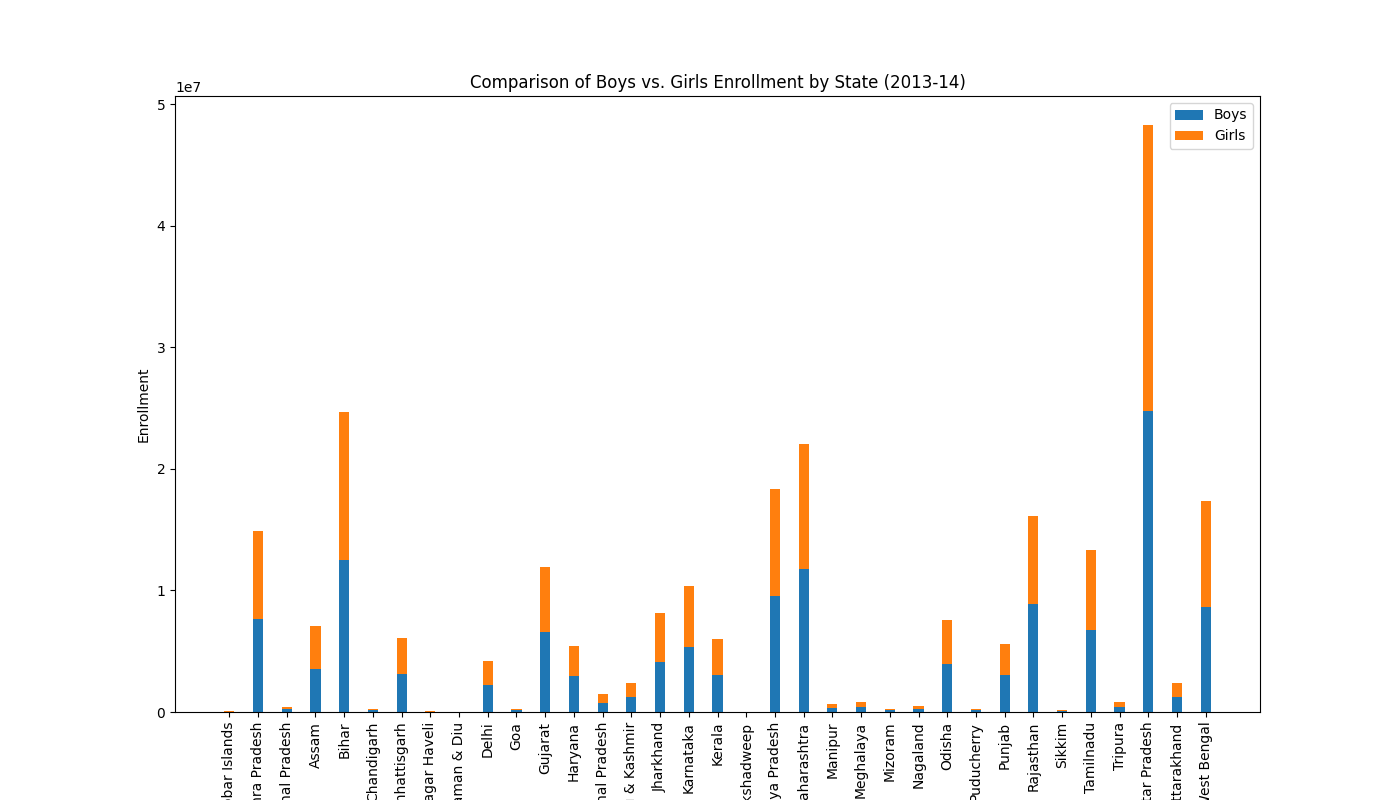

The dashboard page shown, as its layout file describes it:
{"tool":"tableau","page":{"name":"Dashboard 1","canvas":[1000,1000],"units":"permille","ordinal":0},"visuals":[{"type":"worksheet","title":"Sheet 2","mark":"Bar","rows":["count"],"cols":["date","date"],"box":[1.8,480.7,991,499.4]}]}

Visuals, with their boxes on the dashboard's canvas, which has no fixed pixel size, in thousandths of its width and height (x1, y1, x2, y2). These are canvas units, not pixel positions in the 1400x800 screenshot, which may show the page scaled, cropped or inside an application window:
"Sheet 2" worksheet (Bar marks): 2 481 993 980
